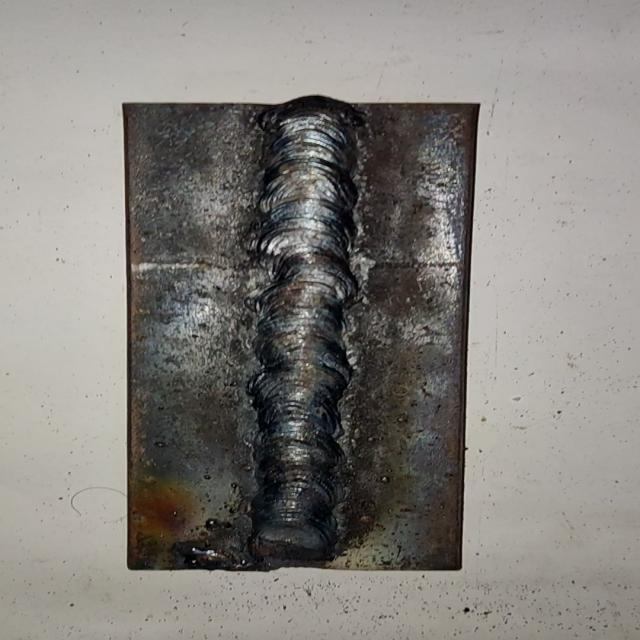Welding Line: (253, 104, 354, 558)
Workpiece: (118, 98, 490, 578)
